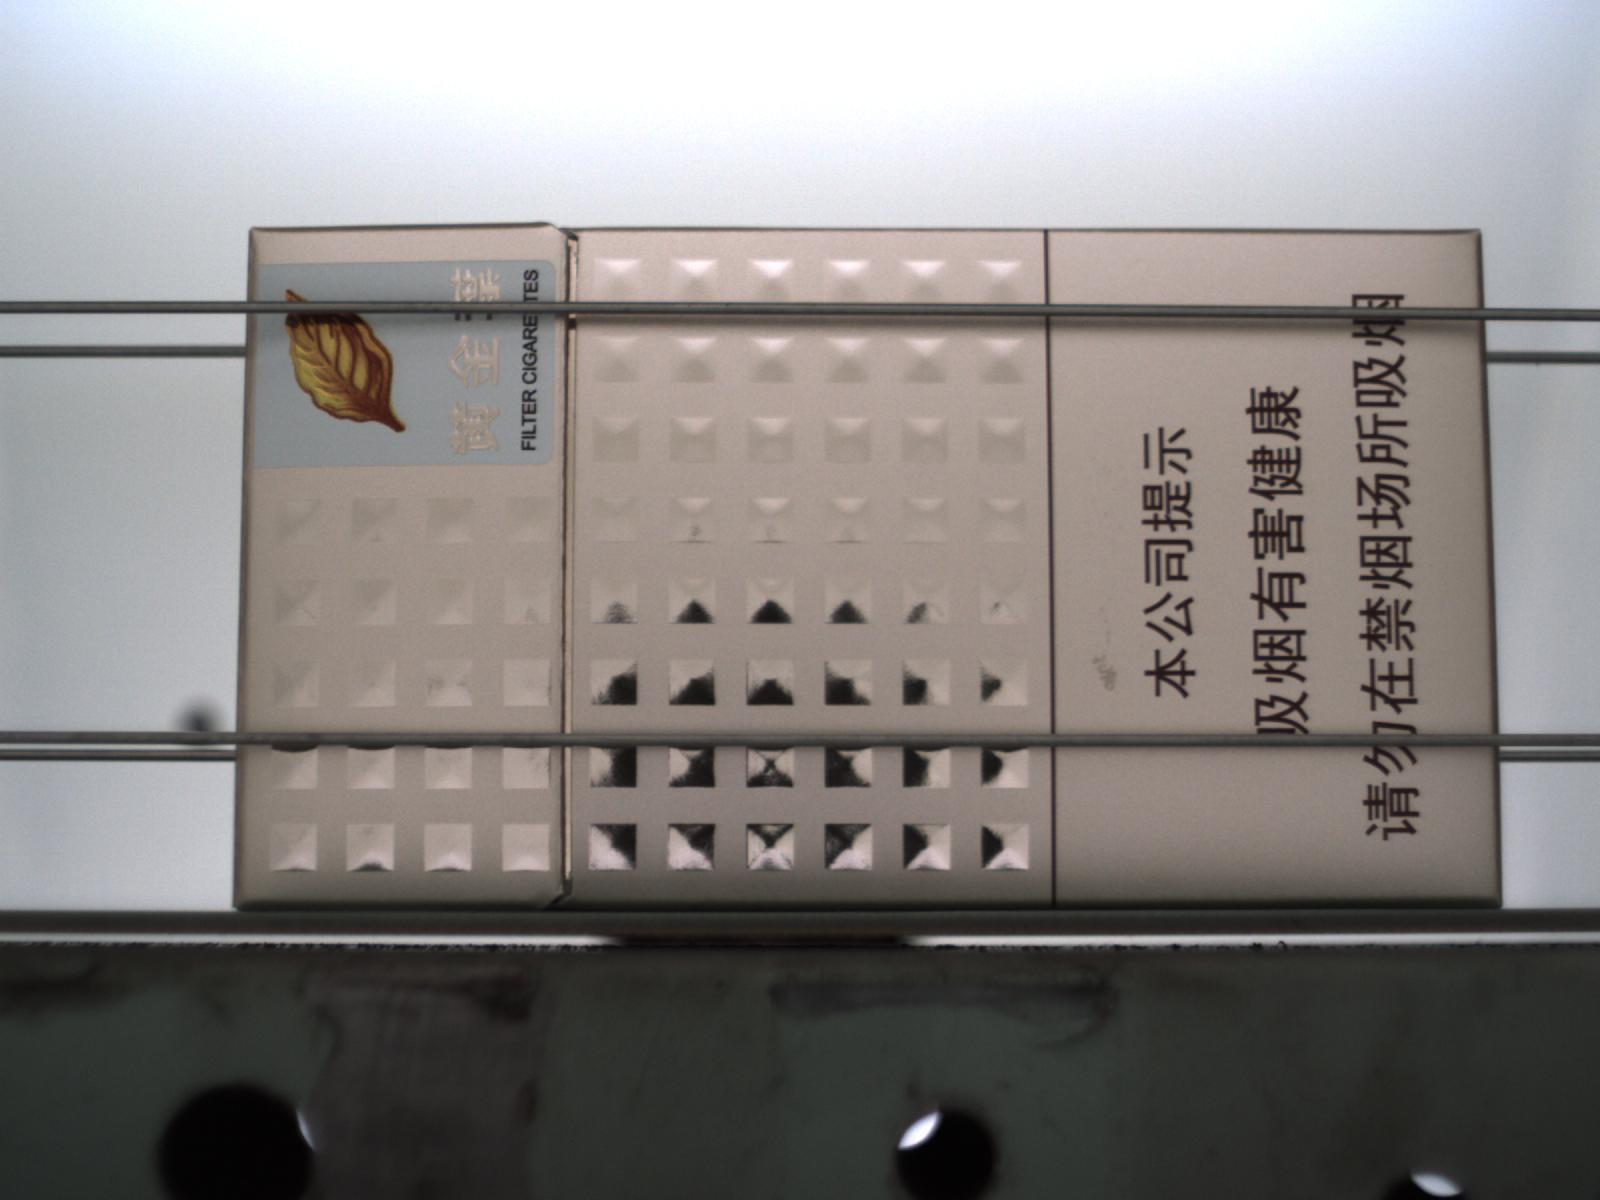bottomUpwarp_upper_3: (1077, 442, 1136, 615), (1092, 597, 1115, 673)
